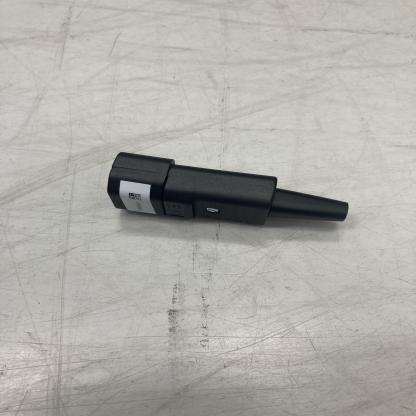SP0000004: (55, 96, 370, 264)
